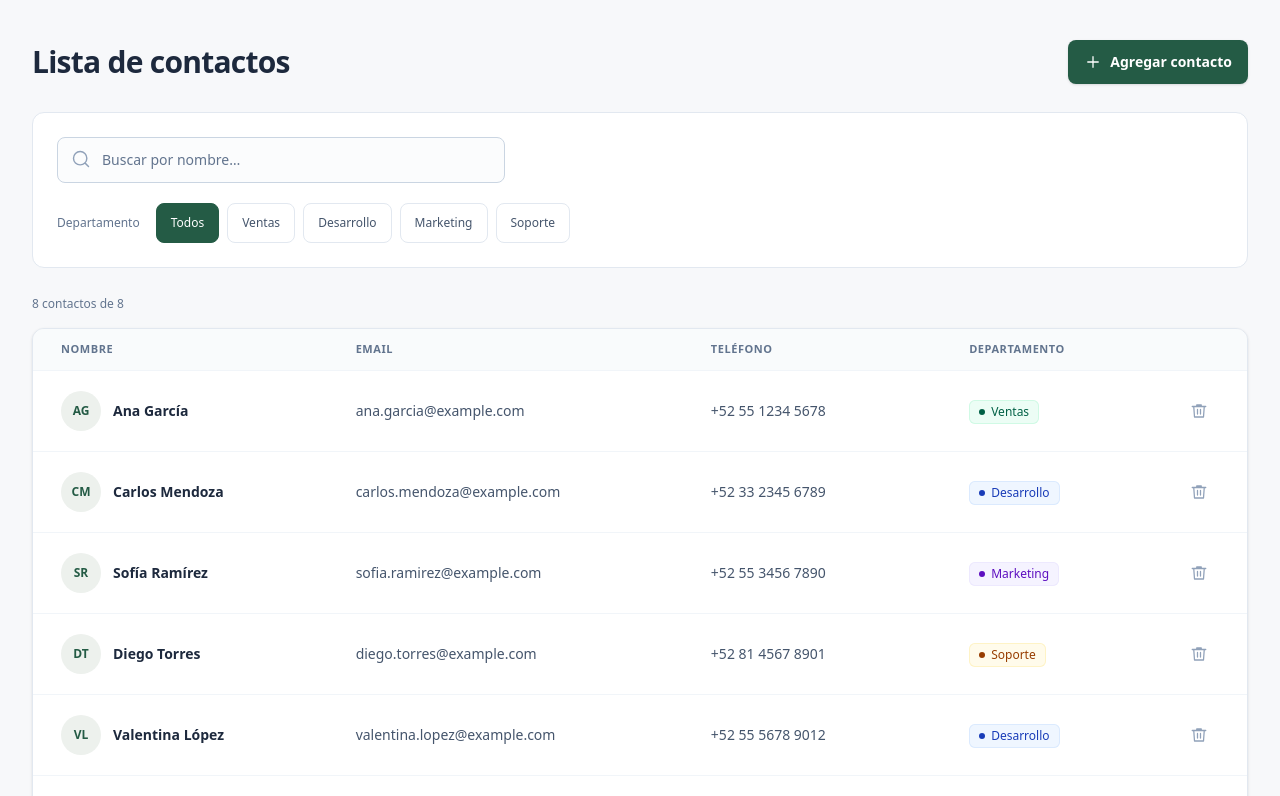
muestra el error requerido al borrar un campo sin perder el foco
Expected: the text "Ana García" is shown, [113, 400, 188, 420]
Click the button "Agregar contacto".
click(1158, 62)  # box [1068, 40, 1248, 84]
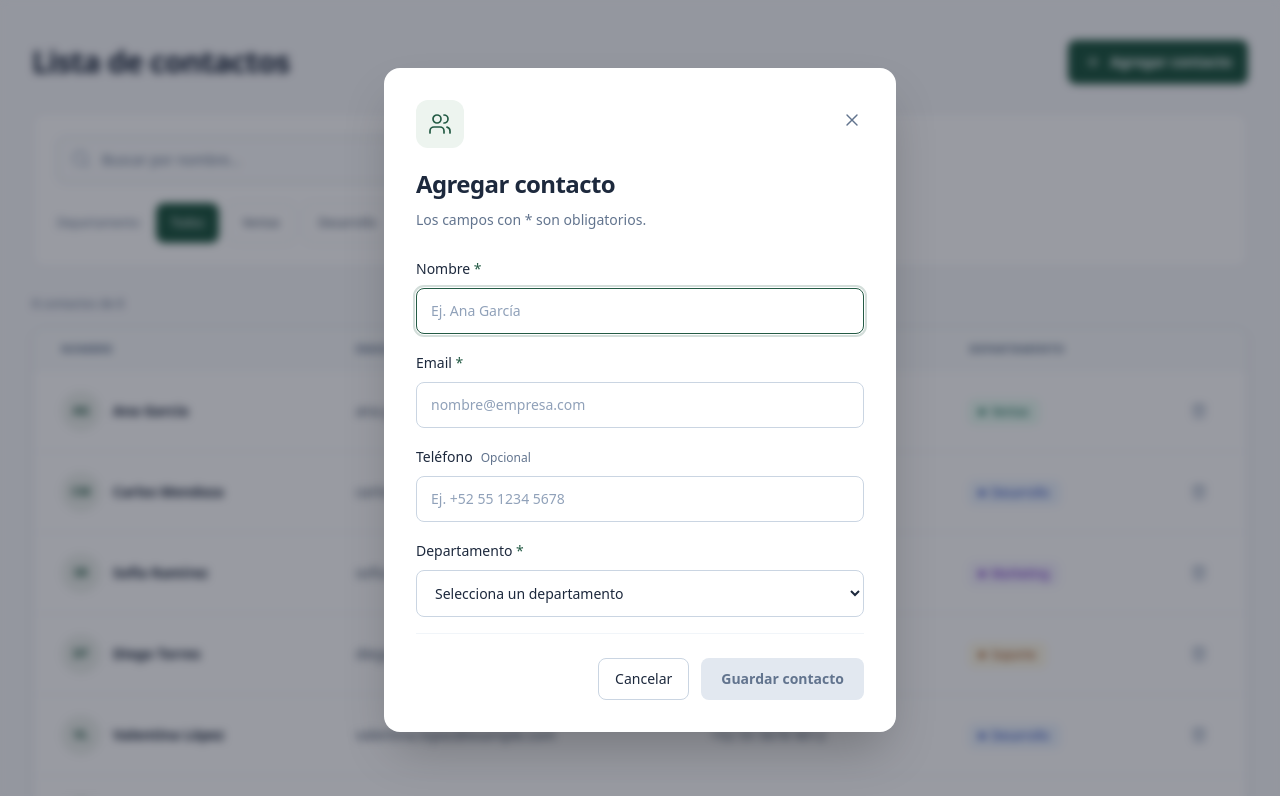
Type "Ana" into the field labelled "Nombre *".
click(640, 311); type("Ana")  # box [416, 288, 864, 334]
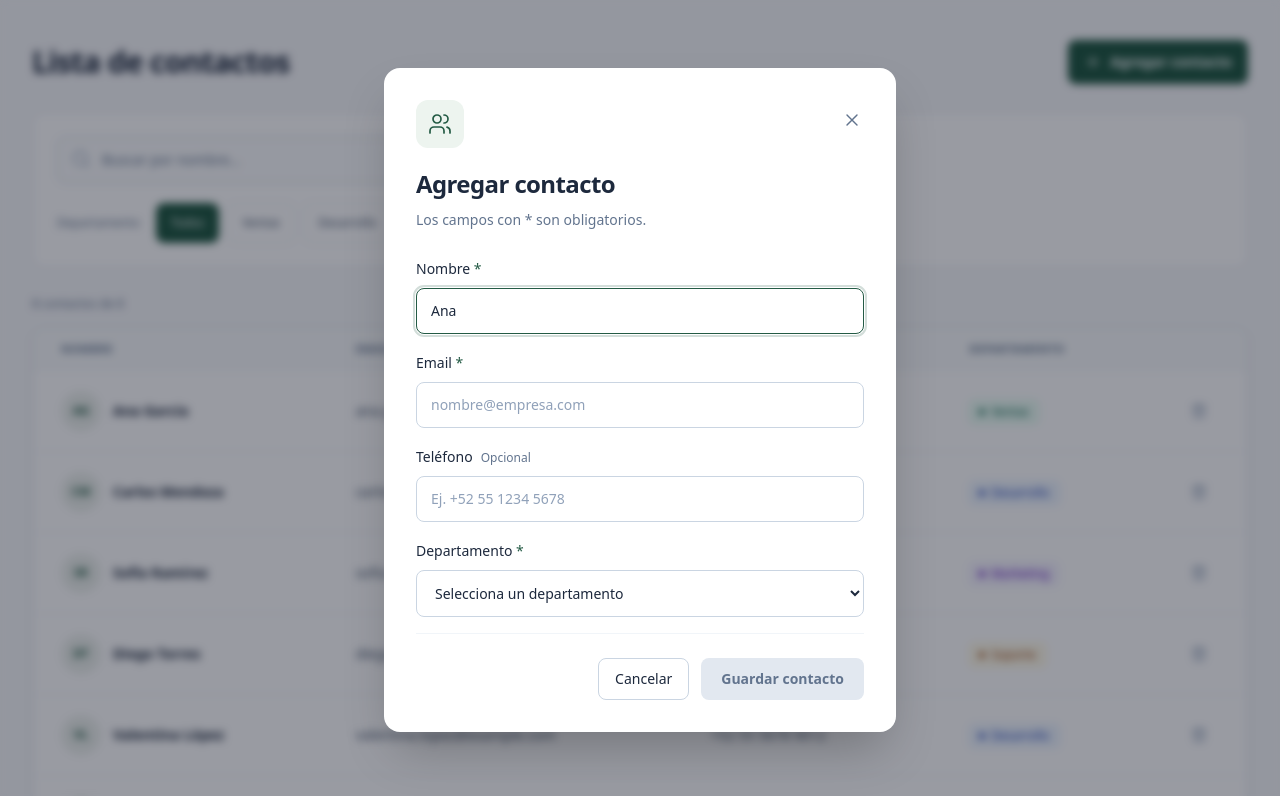
Clear the field labelled "Nombre *" at x=640, y=311, box [416, 288, 864, 334]
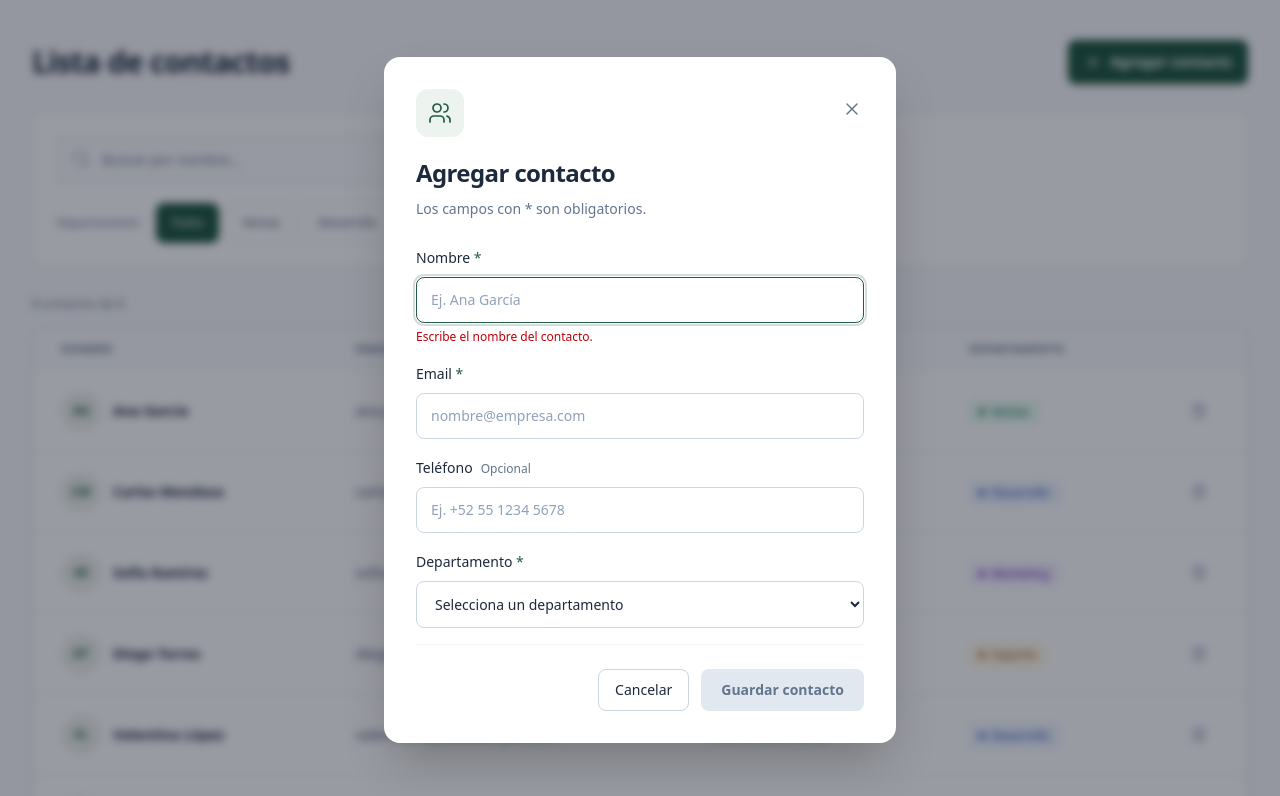
Now the button "Guardar contacto" is disabled, box [701, 669, 864, 711]
Now the text "Escribe el nombre del contacto." is shown, box [416, 328, 593, 345]
